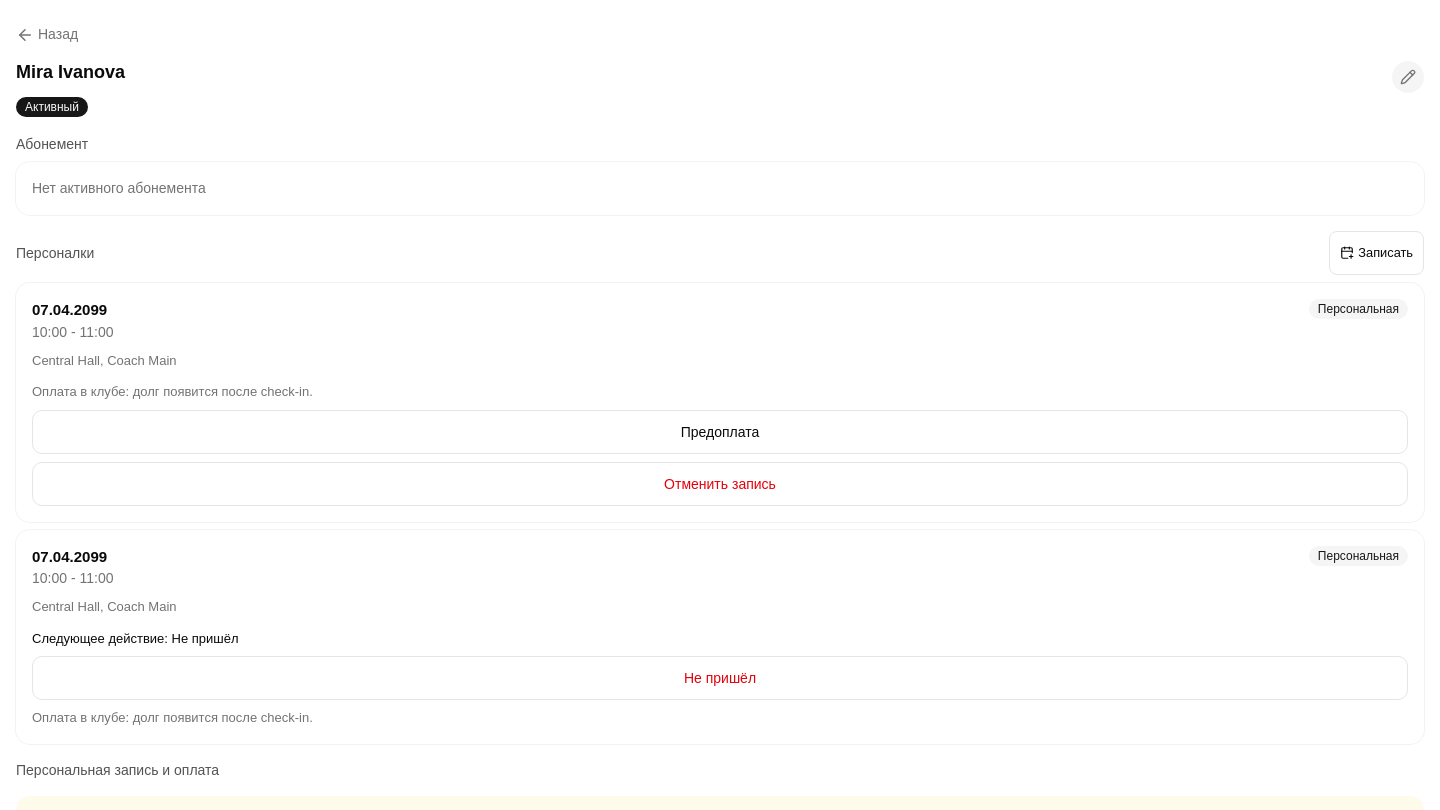
Test: StudentDetail personal bookings block › shows a visible Russian error when cancellation or no-show is rejected
Click the button "Отменить запись" at [720, 484], box [32,462,1408,506]
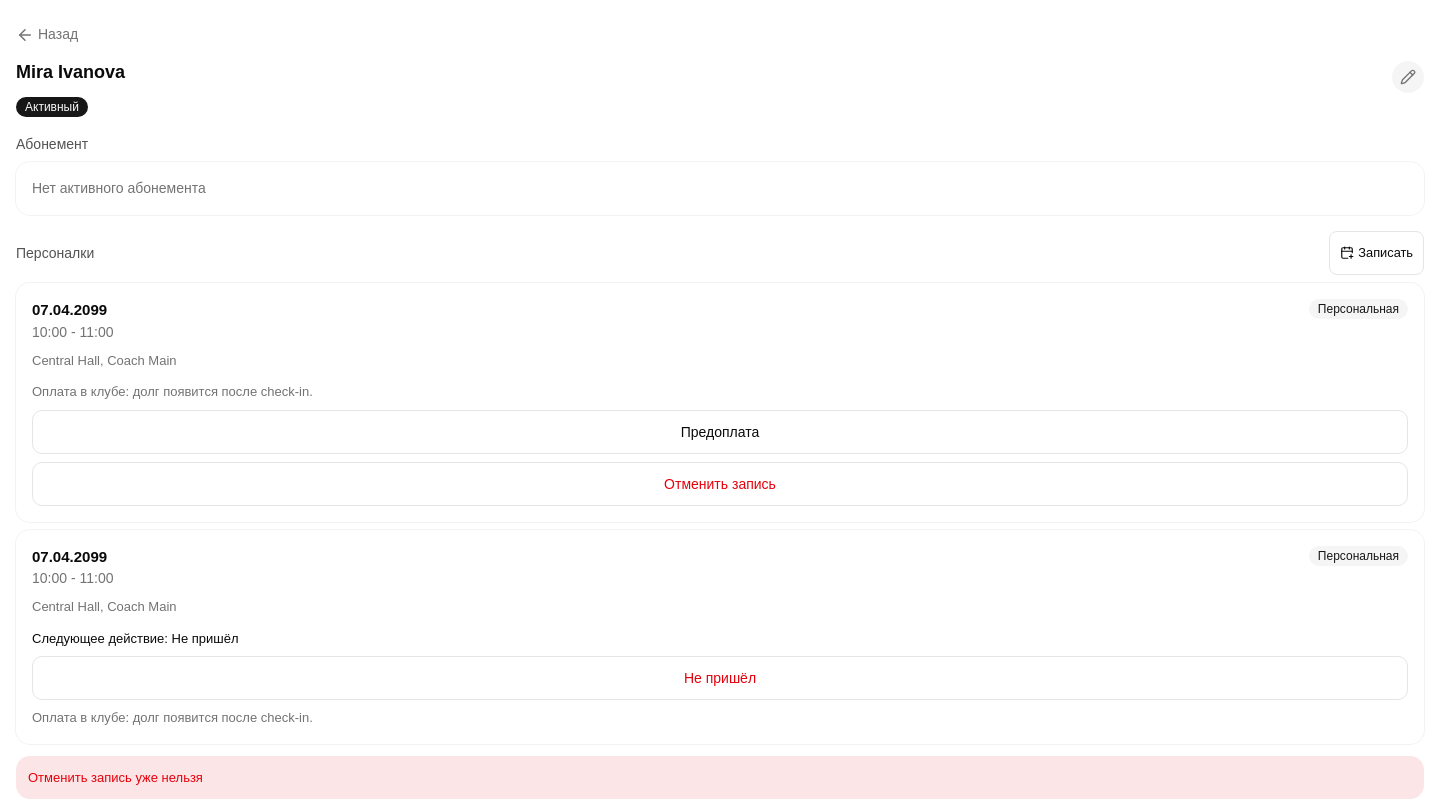
Check: the message reads "Отменить запись уже нельзя", box [28,770,203,784]
Click the button "Не пришёл" at [720, 678], box [32,656,1408,700]
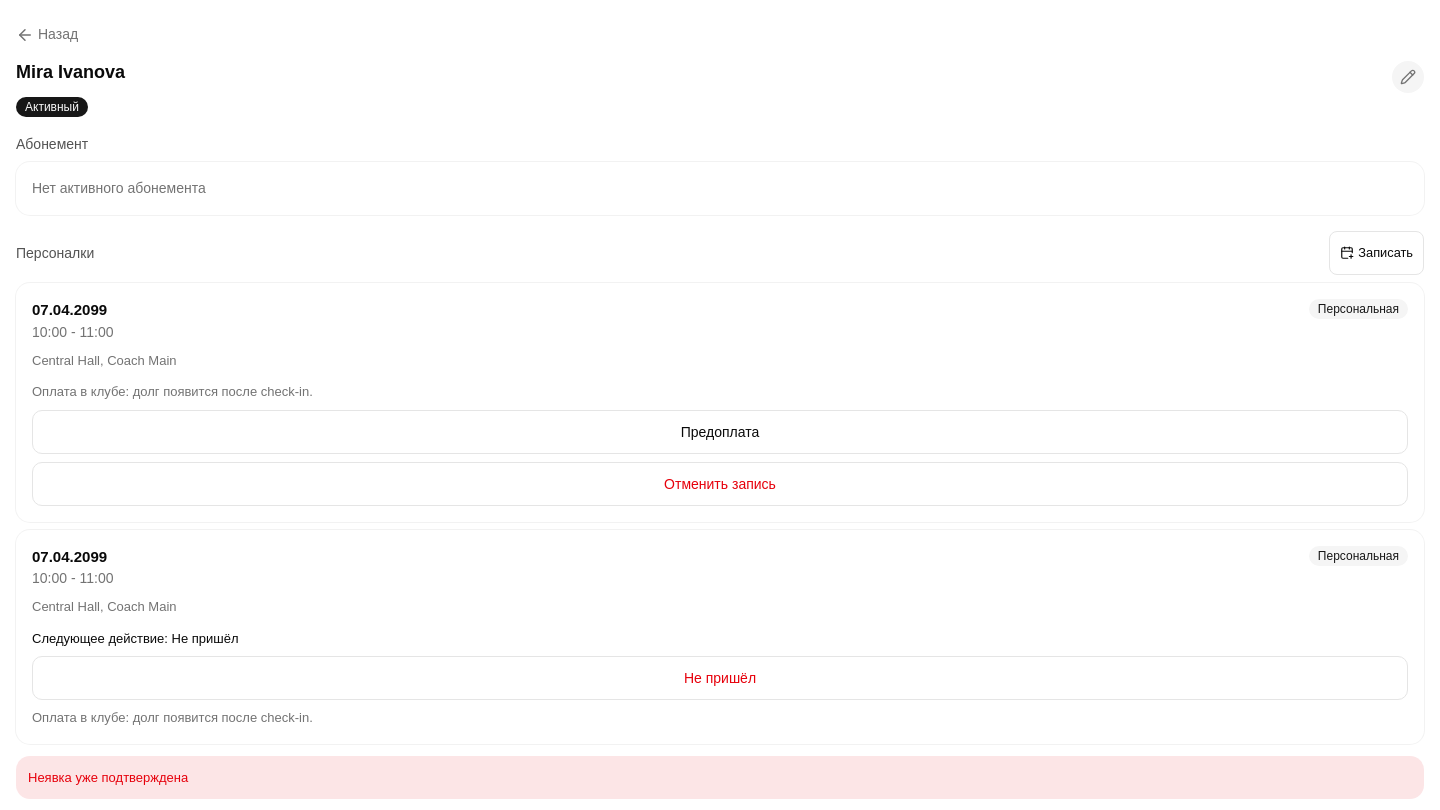
Check: the message reads "Неявка уже подтверждена", box [28,770,188,784]
